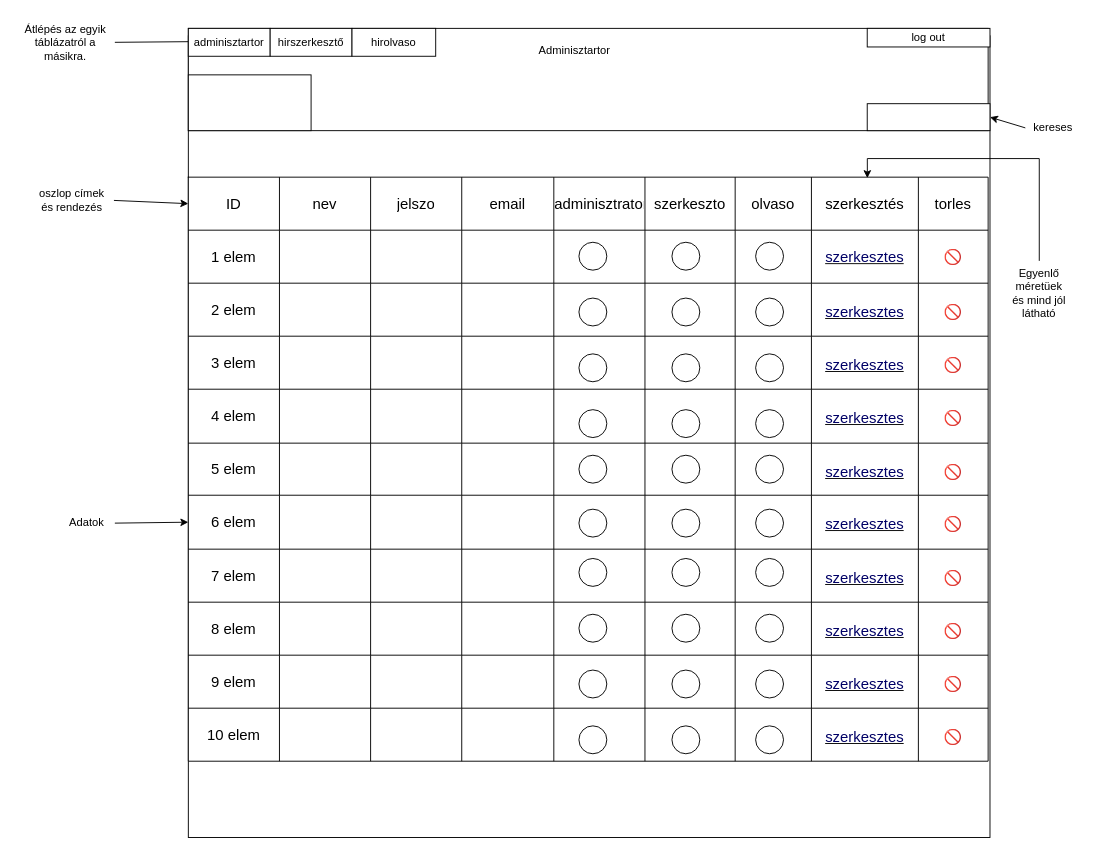
This 1096x854 diagram has some shape labels left out. The shapes that lost their labels are listed below. From the top down, each one's centre as x and y in pixels, then its label:
At (249,102): "Új felhasználó fölvétele".
At (928,117): "Search".
